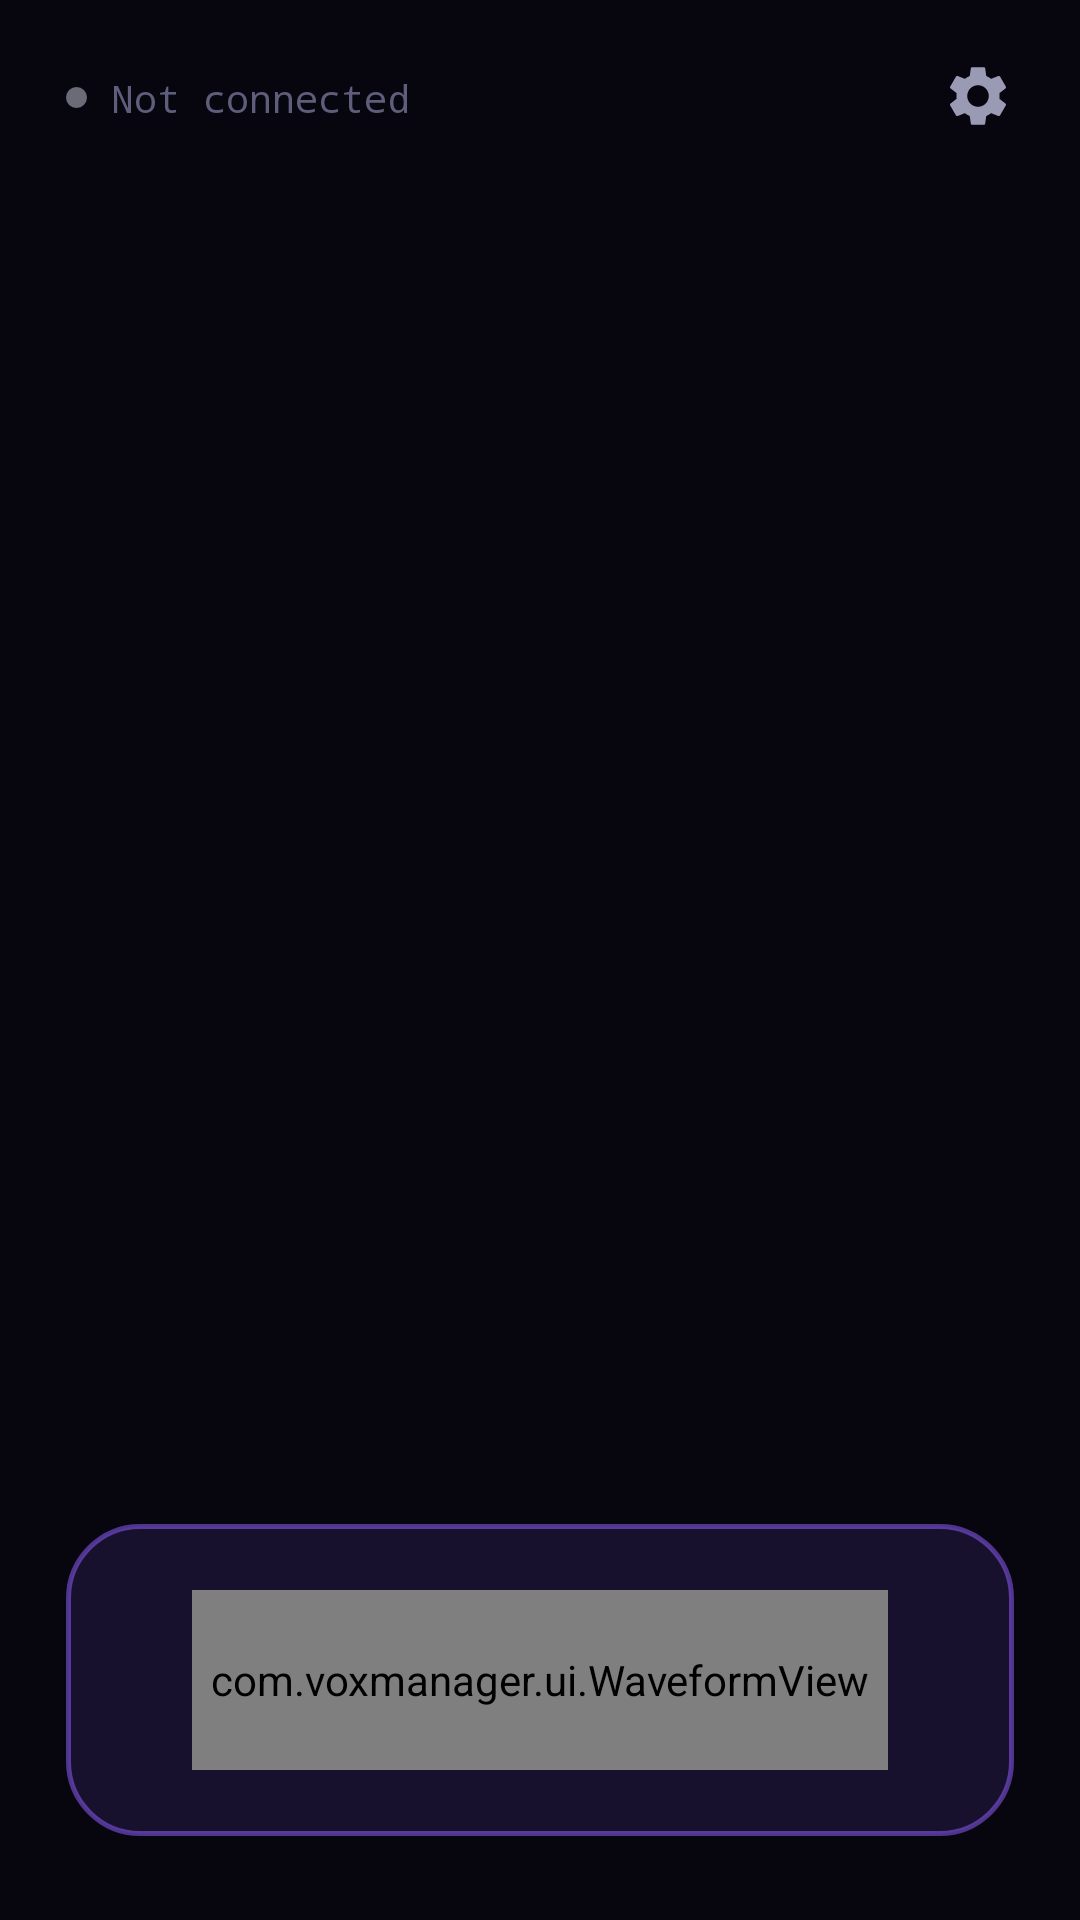

Icons on this 1080px×1920px Android screen, each with the point to tap as (x=x, y=y):
Settings: (x=978, y=96)
